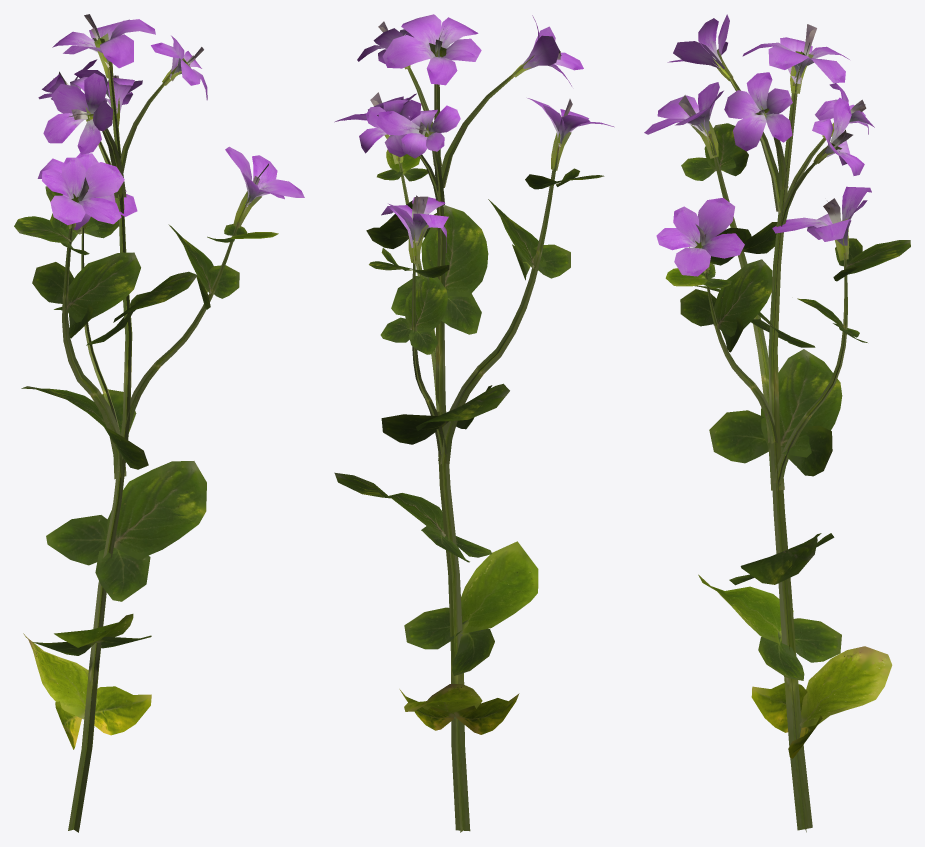
Rendered from Periwinkle_baby_short_magenta.glb.
3 renders of one model, left to right at view 1: azimuth 30°, elevation 25°; view 2: azimuth 150°, elevation 25°; view 3: azimuth 270°, elevation 25°, orthographic.
Parts seen in each view (by area): view 1: _b868_Var1_LOD1; view 2: _b868_Var1_LOD1; view 3: _b868_Var1_LOD1.
Boxes of the visible parts, <box> form: _b868_Var1_LOD1: <box>14,14,304,832</box>; _b868_Var1_LOD1: <box>334,14,614,832</box>; _b868_Var1_LOD1: <box>644,14,910,832</box>.
Size of the model in its own units: 0.5832 by 1.66 by 0.4917.
1 material, 1 textured.
